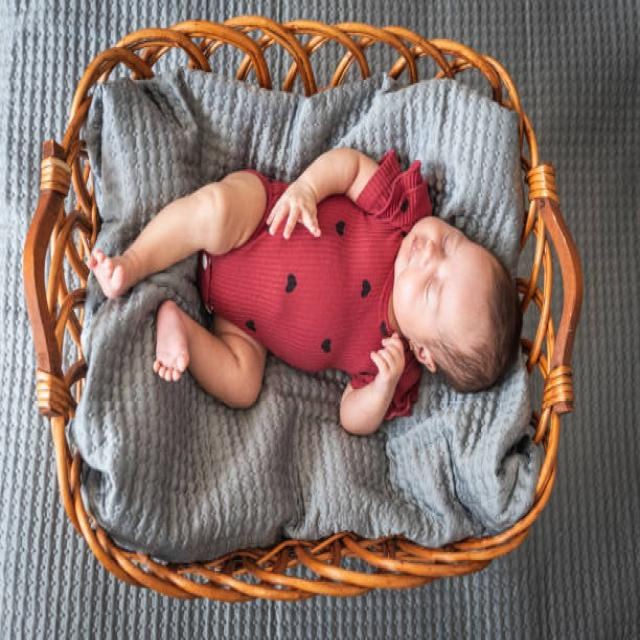baby: (87, 144, 522, 438)
crib: (21, 14, 583, 602)
